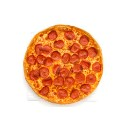pepperonipizza: (24, 24, 103, 103)
